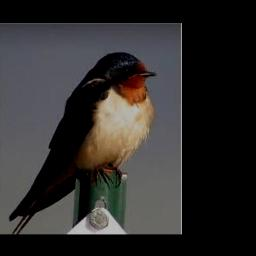Swallow: (8, 51, 157, 235)
